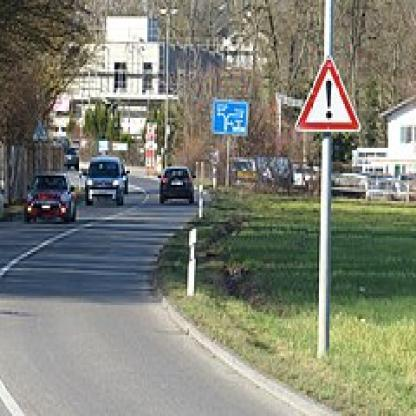road_sign: (297, 58, 359, 131)
